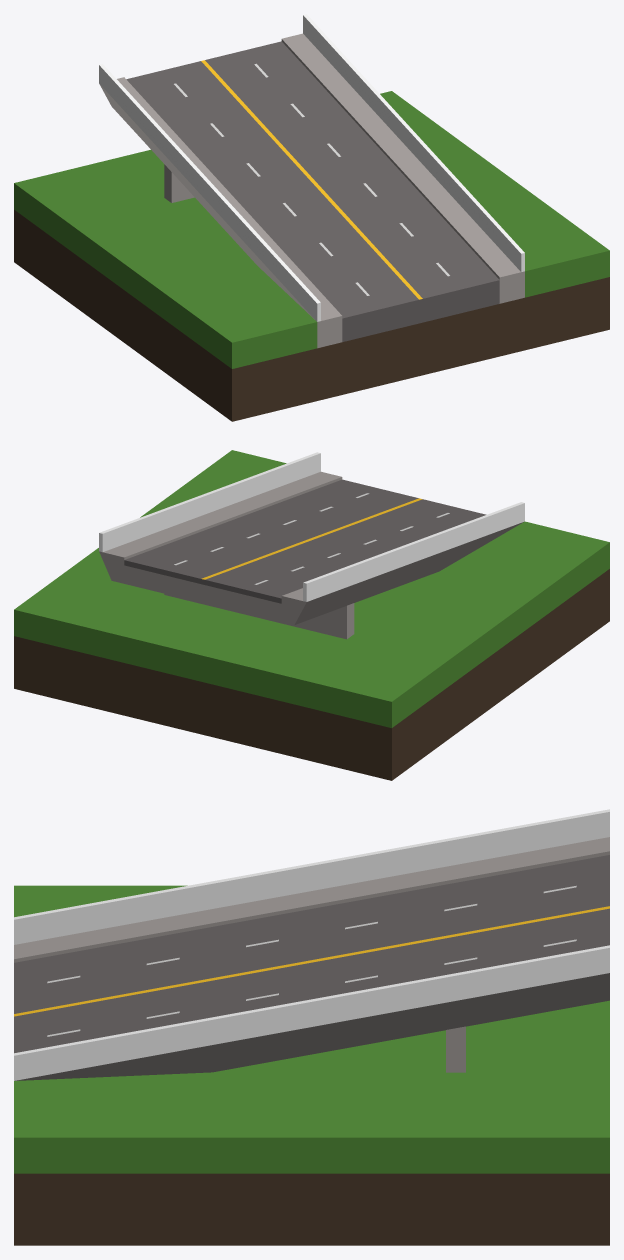
Rendered from tiles-tile-bridge-mainroad-hill.glb.
3 renders of one model, top to bottom at view 1: azimuth 30°, elevation 25°; view 2: azimuth 150°, elevation 25°; view 3: azimuth 270°, elevation 25°, orthographic. The views are drawn at different scales.
Parts seen in each view (by area): view 1: tile-bridge-mainroad-hill; view 2: tile-bridge-mainroad-hill; view 3: tile-bridge-mainroad-hill.
Boxes of the visible parts, <box> form: tile-bridge-mainroad-hill: <box>14,14,609,421</box>; tile-bridge-mainroad-hill: <box>14,450,609,780</box>; tile-bridge-mainroad-hill: <box>14,809,609,1245</box>.
Size of the model in its own units: 30 by 13.4 by 30.
